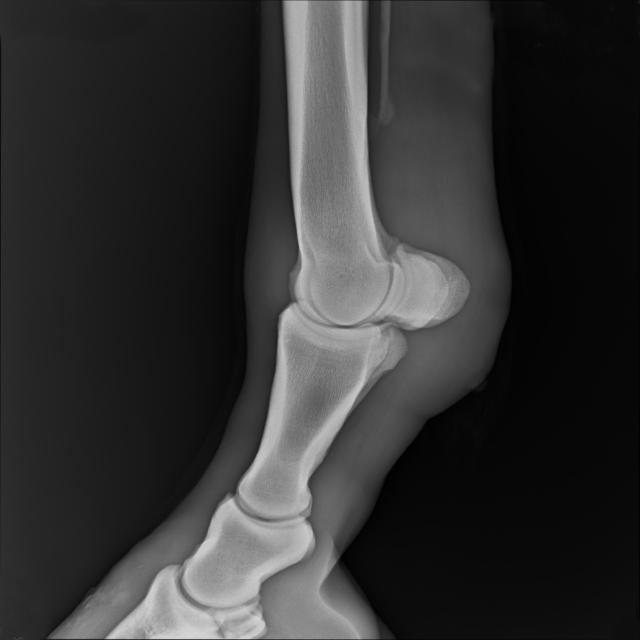joint-ht8A: (240, 183, 509, 419)
